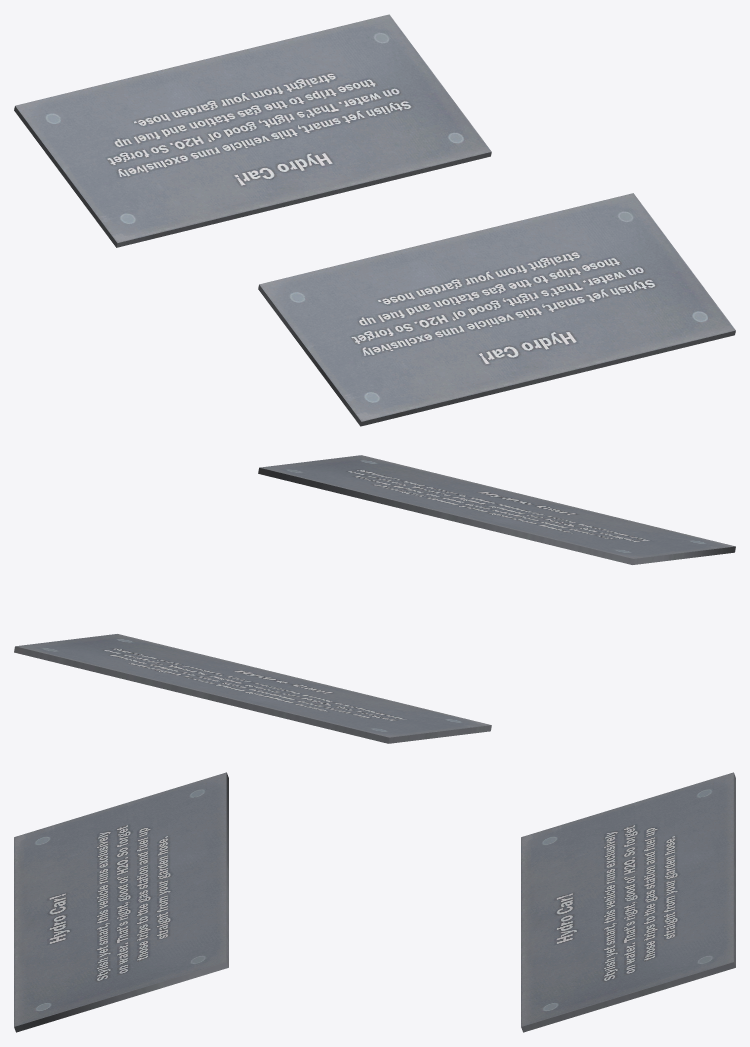
File: fxanim_mp_nuked2025_display_glass_mod_LOD0.obj
The picture shows the model from 3 angles, top to bottom: view 1: azimuth 30°, elevation 25°; view 2: azimuth 150°, elevation 25°; view 3: azimuth 270°, elevation 25°; orthographic projection. The views are drawn at different scales.
Parts seen in each view (by area): view 1: nt_2020_signs_glass_06, nt_2020_signs_glass_01; view 2: nt_2020_signs_glass_06, nt_2020_signs_glass_01; view 3: nt_2020_signs_glass_06, nt_2020_signs_glass_01.
Part boxes in pixels (<box>): nt_2020_signs_glass_06: <box>15,14,735,421</box>; nt_2020_signs_glass_01: <box>14,106,735,426</box>; nt_2020_signs_glass_06: <box>16,455,735,737</box>; nt_2020_signs_glass_01: <box>14,467,735,743</box>; nt_2020_signs_glass_06: <box>14,772,733,1026</box>; nt_2020_signs_glass_01: <box>14,772,735,1032</box>.
Bounding box in the file's own units: 173 × 29.95 × 278.
